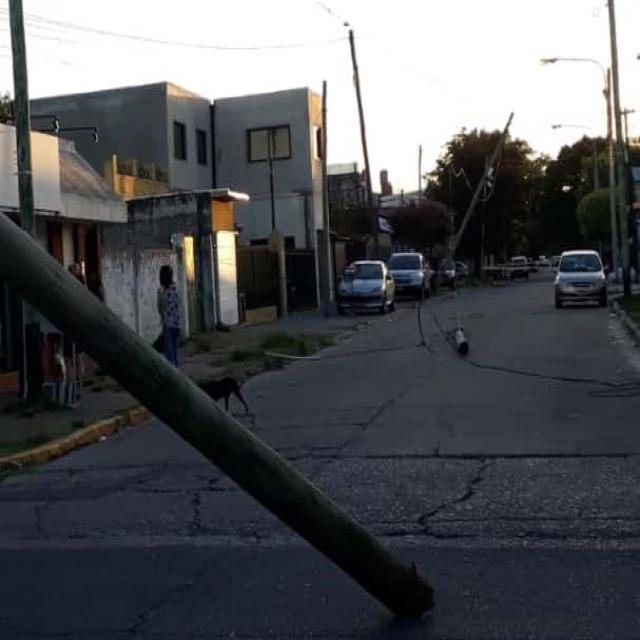light_pole: (1, 213, 435, 625), (540, 55, 618, 284), (440, 112, 514, 273), (9, 0, 37, 421), (349, 31, 384, 260), (608, 2, 634, 297)
